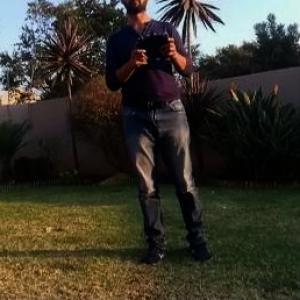follow: (99, 0, 216, 271)
